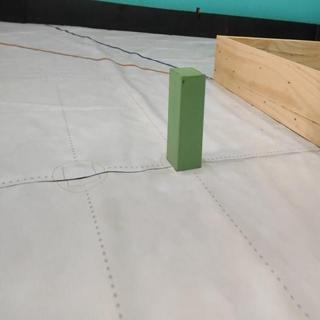greenbox: (165, 66, 207, 173)
